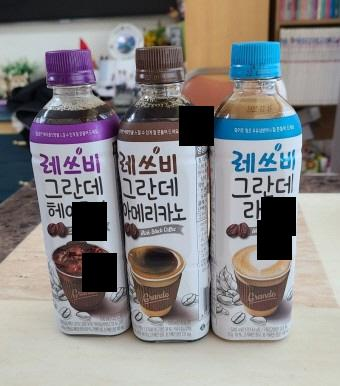letsbe_grande_hazelnut: (29, 49, 133, 339)
